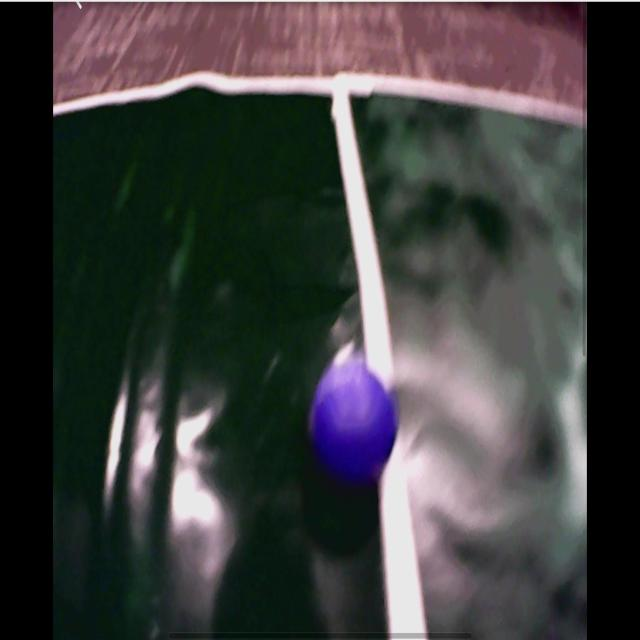ball: (313, 359, 399, 486)
